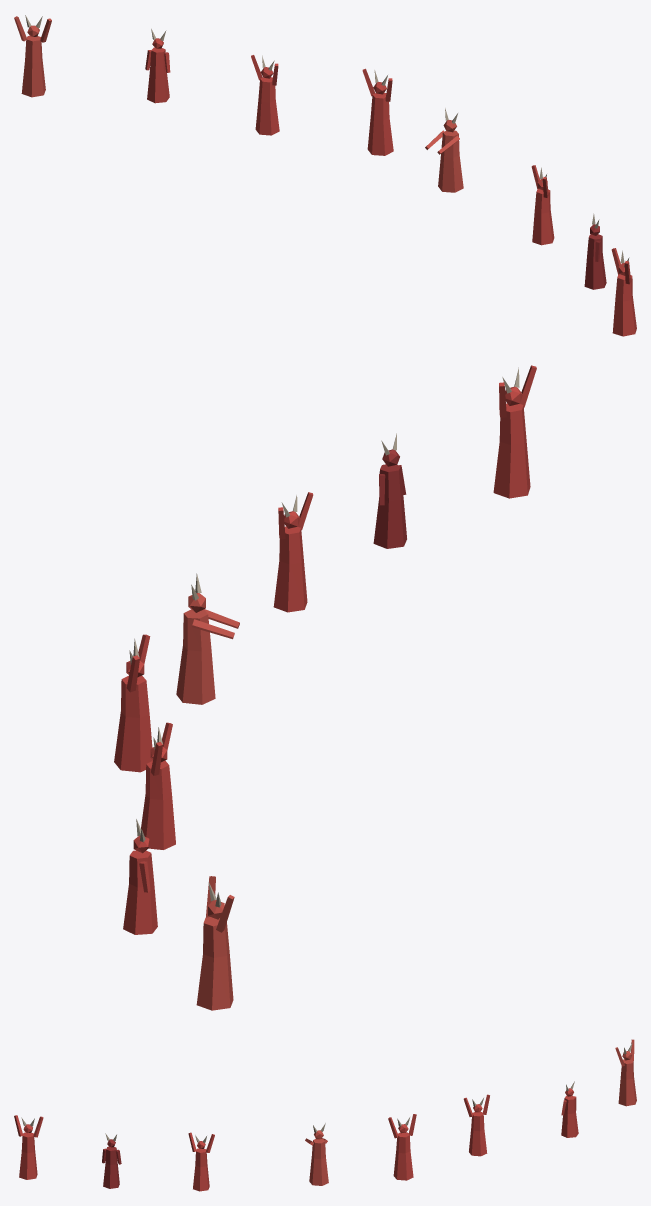
The model's file is Stands_4_1_2.obj.
The picture shows the model from 3 angles, top to bottom: view 1: azimuth 30°, elevation 25°; view 2: azimuth 150°, elevation 25°; view 3: azimuth 270°, elevation 25°; orthographic projection. The views are drawn at different scales.
Parts seen in each view (by area): view 1: Stands_4_1_2; view 2: Stands_4_1_2; view 3: Stands_4_1_2.
Boxes of the visible parts, left/top/right/bottom form: Stands_4_1_2: left=14, top=15, right=636, bottom=336; Stands_4_1_2: left=114, top=365, right=536, bottom=1010; Stands_4_1_2: left=14, top=1039, right=636, bottom=1191.
Bounding box in the file's own units: 12 × 3.53 × 33.18.
1 material, 1 textured.
